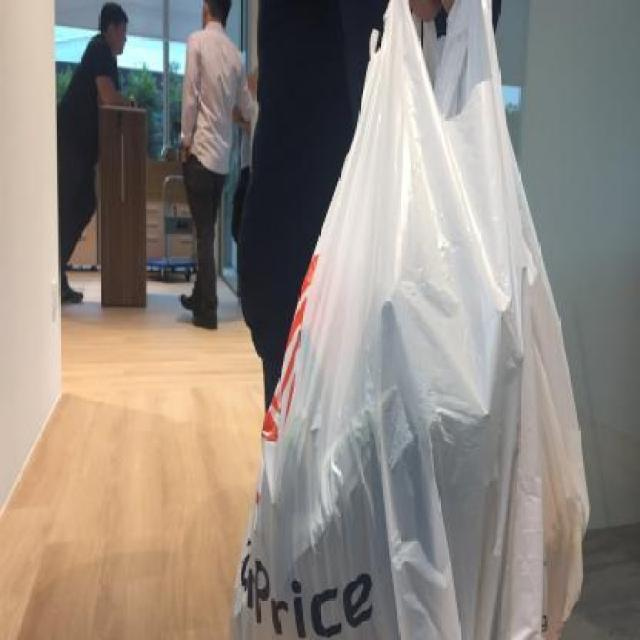plastic bag: (234, 0, 590, 639)
